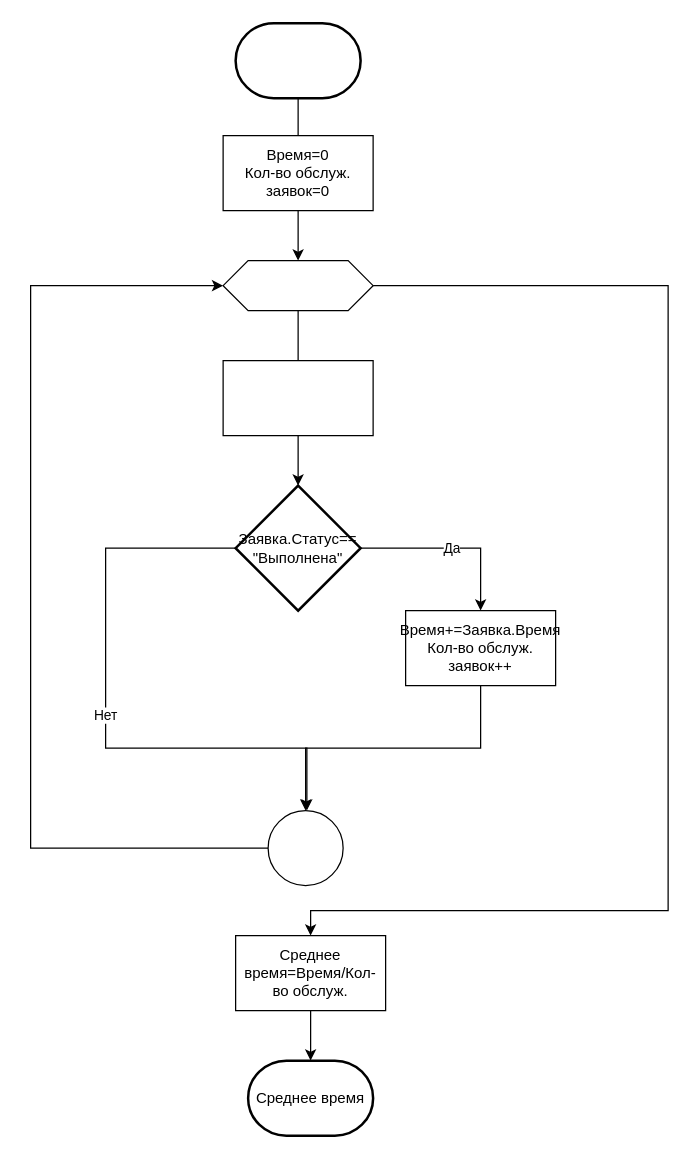
This 700x1158 diagram has some shape labels left out. Here are the shapes that lost their labels. From the top down, the centre of each, then its label:
pixel 297 60: Среднее время заявки (Заявки)
pixel 297 285: i=0; Заявки; Количество-1; 1
pixel 297 397: Заявка = Заявки[i]
